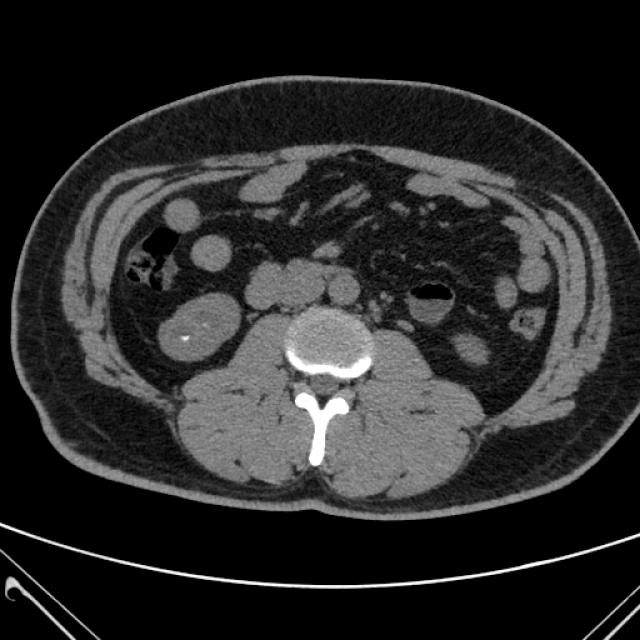kidney: (153, 286, 243, 366), (446, 327, 496, 374)
stone: (176, 329, 192, 345)
